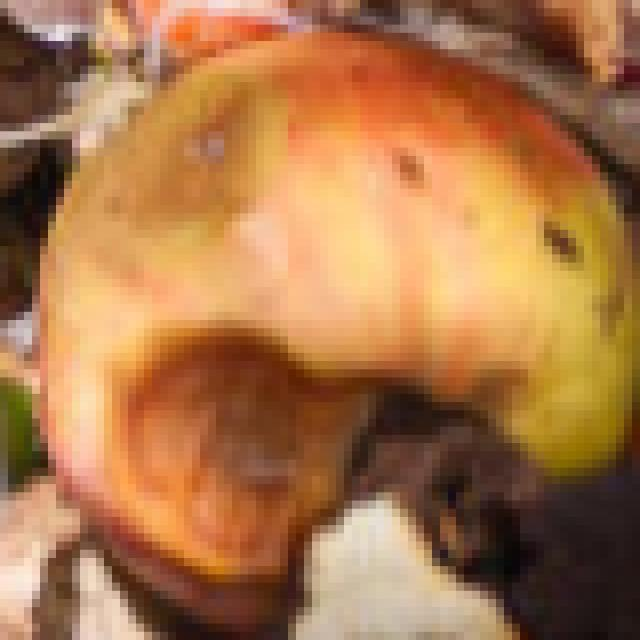food waste: (8, 0, 640, 615)
